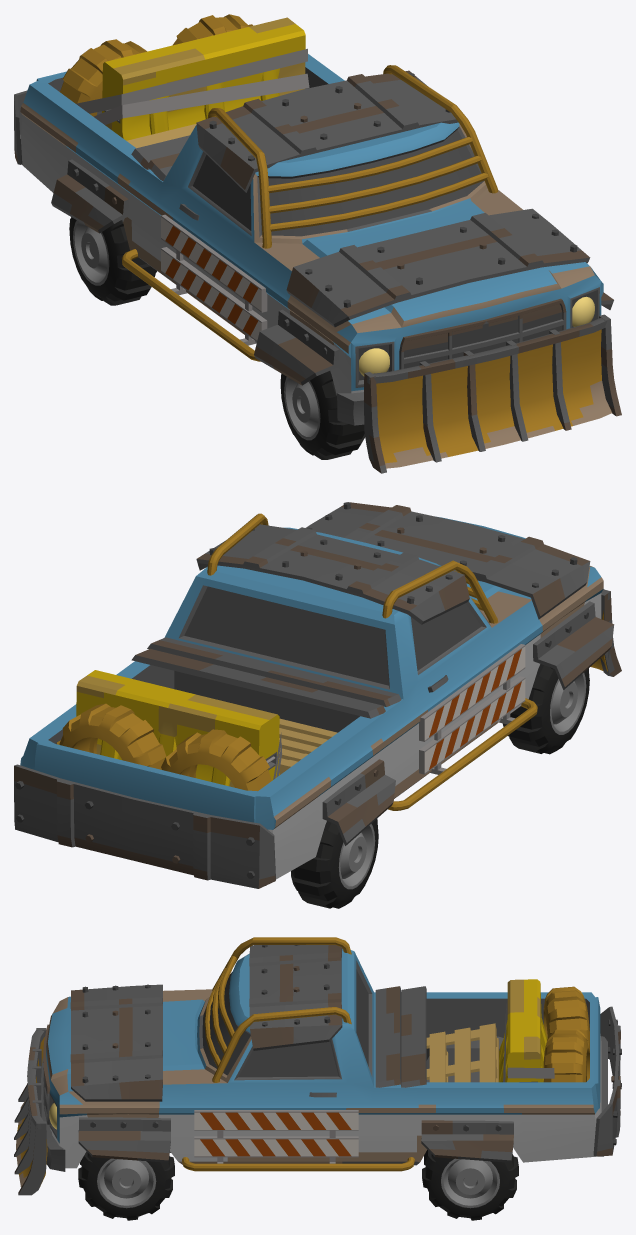
The model's file is pickup-armored.glb.
3 views of the same model, one above another, from view 1: azimuth 30°, elevation 25°; view 2: azimuth 150°, elevation 25°; view 3: azimuth 270°, elevation 25° (orthographic). The views are drawn at different scales.
Visible parts, largest first — view 1: Pickup_Armored, FrontWheel_R, BackWheels; view 2: Pickup_Armored, BackWheels, FrontWheel_R; view 3: Pickup_Armored, BackWheels, FrontWheel_L.
Boxes of the visible parts, box(x1,y1,x2,y2) form: Pickup_Armored: box(14, 14, 621, 473); FrontWheel_R: box(280, 371, 365, 459); BackWheels: box(69, 217, 156, 305); Pickup_Armored: box(14, 502, 621, 888); BackWheels: box(291, 819, 378, 908); FrontWheel_R: box(502, 664, 589, 754); Pickup_Armored: box(14, 937, 621, 1195); BackWheels: box(422, 1150, 518, 1220); FrontWheel_L: box(78, 1151, 174, 1220).
Bounding box in the file's own units: 2.65 × 2 × 5.51.
2 materials, 1 textured.
